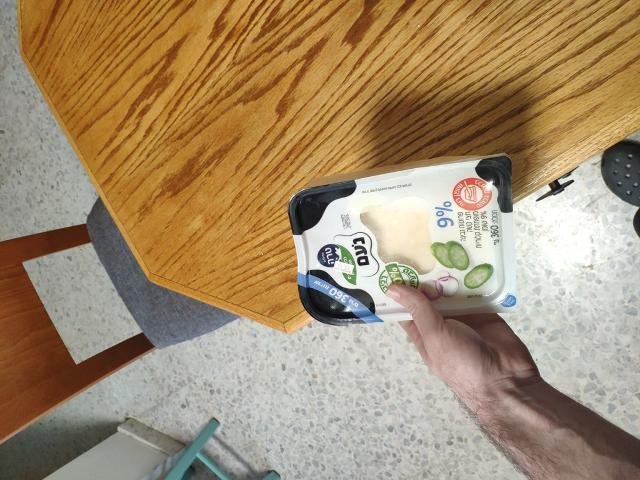cheese: (295, 151, 516, 352)
